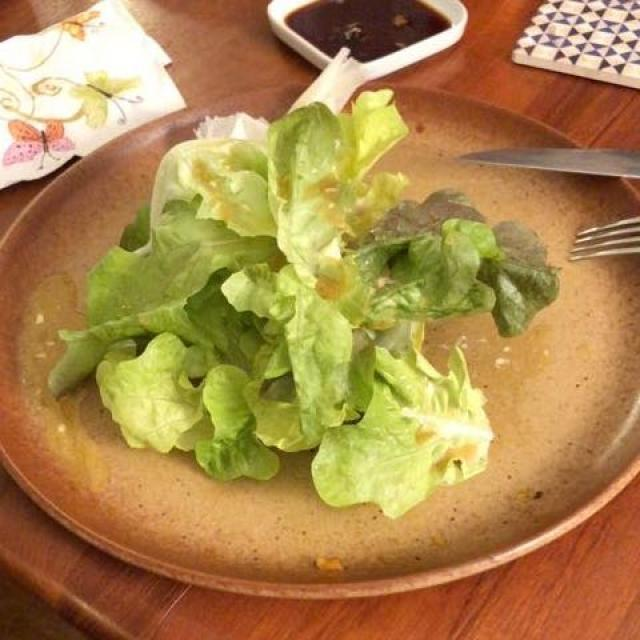salad: (21, 89, 606, 547), (177, 150, 393, 302)
